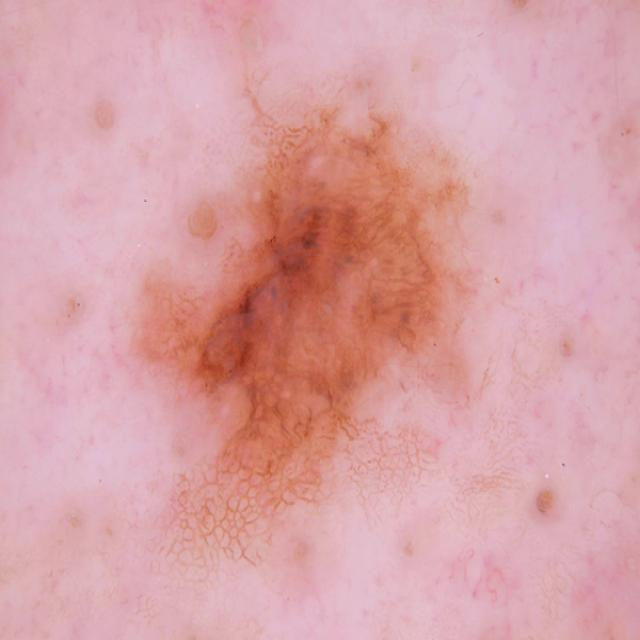MEL: (128, 50, 498, 606)
